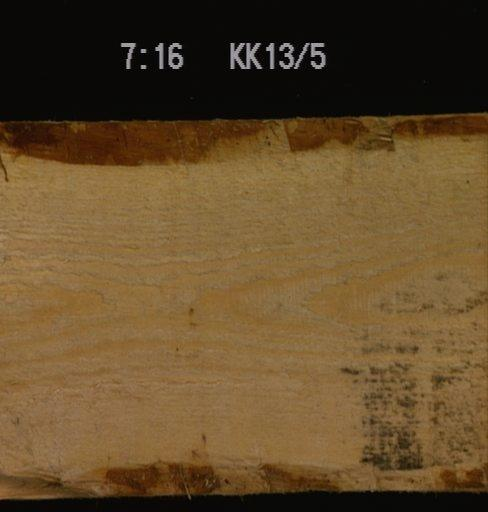wave: (0, 112, 487, 166), (0, 456, 487, 493)
